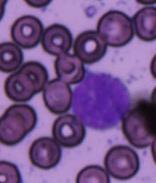B: (70, 70, 132, 130)
